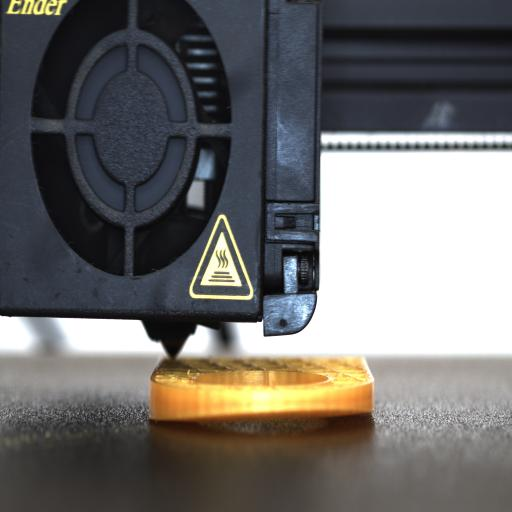warp: (152, 395, 372, 439)
